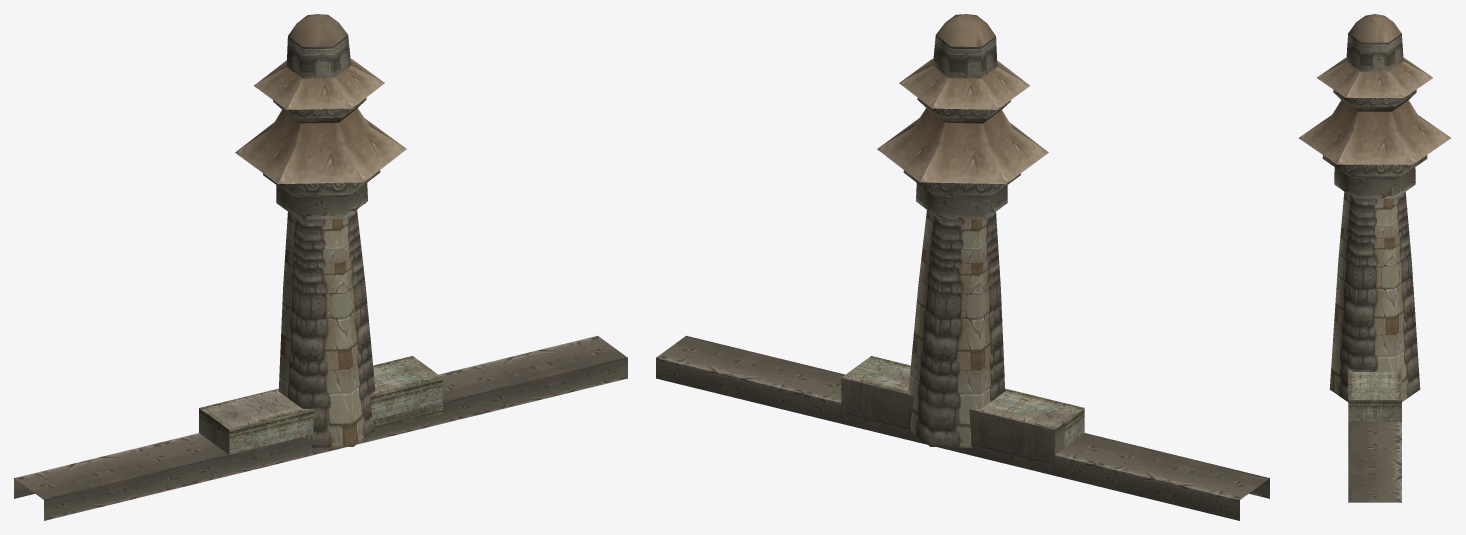
The model's file is CR_jieti.fbx.
3 renders of one model, left to right at view 1: azimuth 30°, elevation 25°; view 2: azimuth 150°, elevation 25°; view 3: azimuth 270°, elevation 25°, orthographic. The views are drawn at different scales.
Parts seen in each view (by area): view 1: zhuzhi, jieti2, jieti, jieti1; view 2: zhuzhi, jieti2, jieti1, jieti; view 3: zhuzhi, jieti2, jieti, jieti1.
Part boxes in pixels (left/top/right/bottom): zhuzhi: left=235, top=14, right=406, bottom=447; jieti2: left=14, top=335, right=627, bottom=520; jieti: left=199, top=356, right=442, bottom=454; jieti1: left=201, top=361, right=433, bottom=454; zhuzhi: left=877, top=14, right=1048, bottom=447; jieti2: left=656, top=335, right=1269, bottom=520; jieti1: left=841, top=363, right=1076, bottom=465; jieti: left=848, top=356, right=1084, bottom=447; zhuzhi: left=1299, top=14, right=1450, bottom=401; jieti2: left=1348, top=422, right=1401, bottom=502; jieti: left=1348, top=368, right=1401, bottom=421; jieti1: left=1348, top=368, right=1401, bottom=421.
Size of the model in its own units: 11.19 by 7.79 by 2.86.
